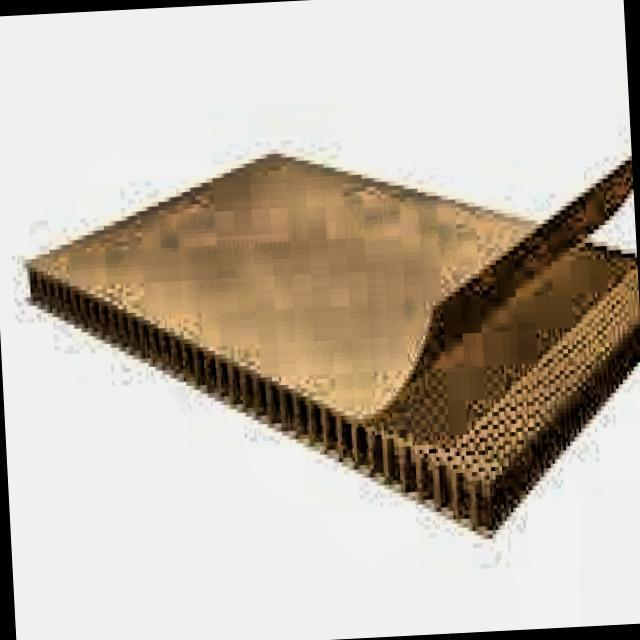cardboard: (16, 126, 640, 562)
